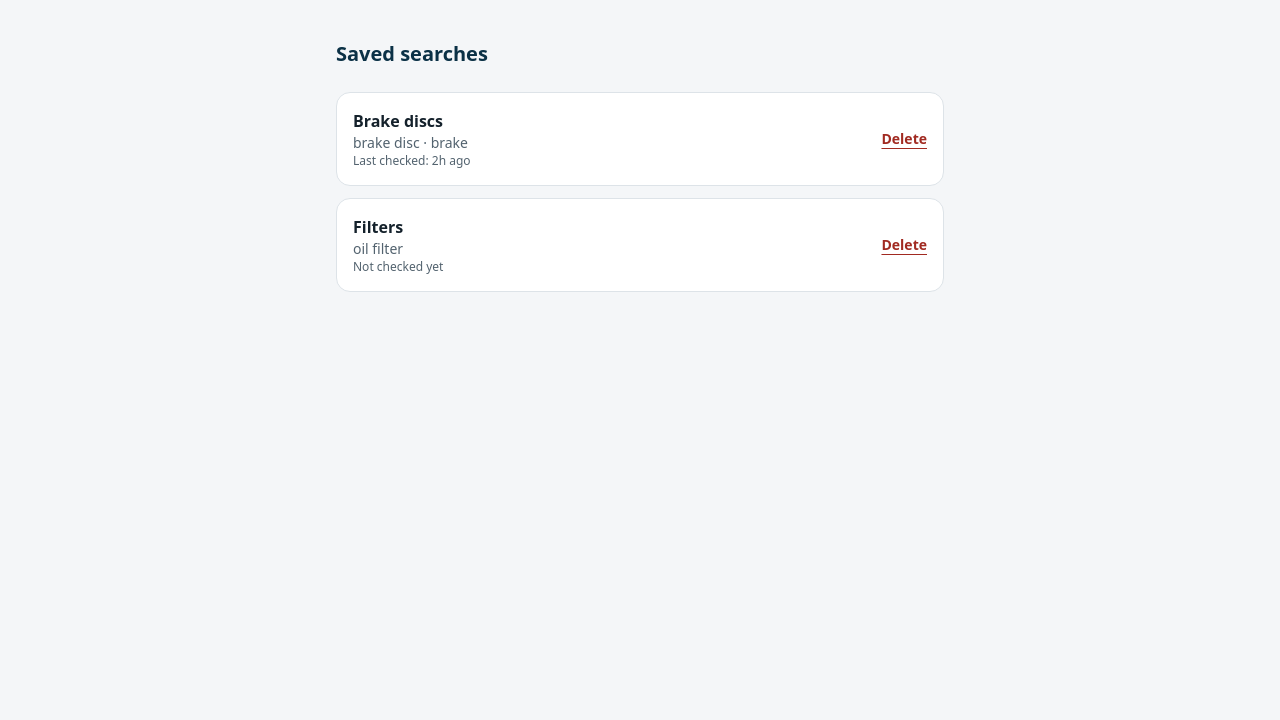
it: saved searches › CRITICAL: lists each search (it opens the search), when it was last checked or 'not checked yet'; deleting asks first and only the confirmation deletes
The image size is (1280, 720).
Check: the text "Last checked: 2h ago" is shown, box top-left (353, 152), bottom-right (471, 169)
Check: the text "Not checked yet" is shown, box top-left (353, 258), bottom-right (443, 275)
Click the button with aria-label "Delete: Brake discs": (904, 139) top-left (882, 129), bottom-right (927, 149)
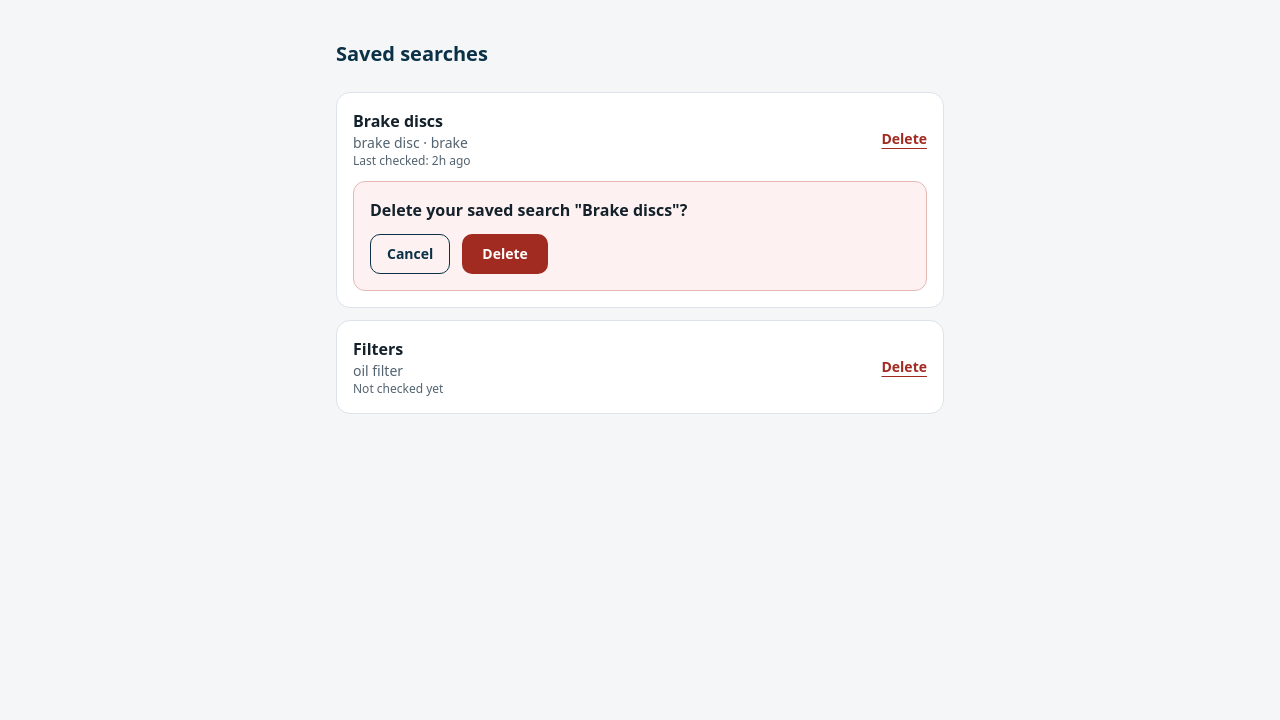
Click the button "Cancel": (410, 254) top-left (370, 234), bottom-right (450, 274)
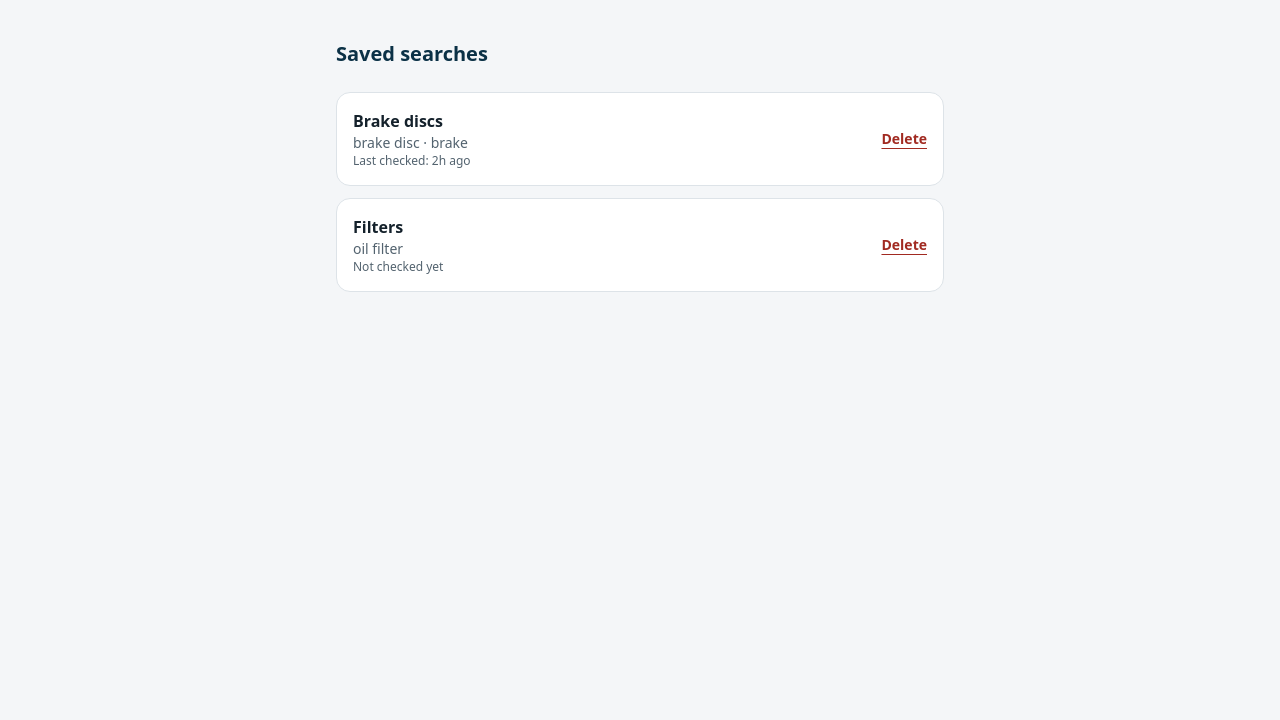
Click the button with aria-label "Delete: Brake discs": (904, 139) top-left (882, 129), bottom-right (927, 149)
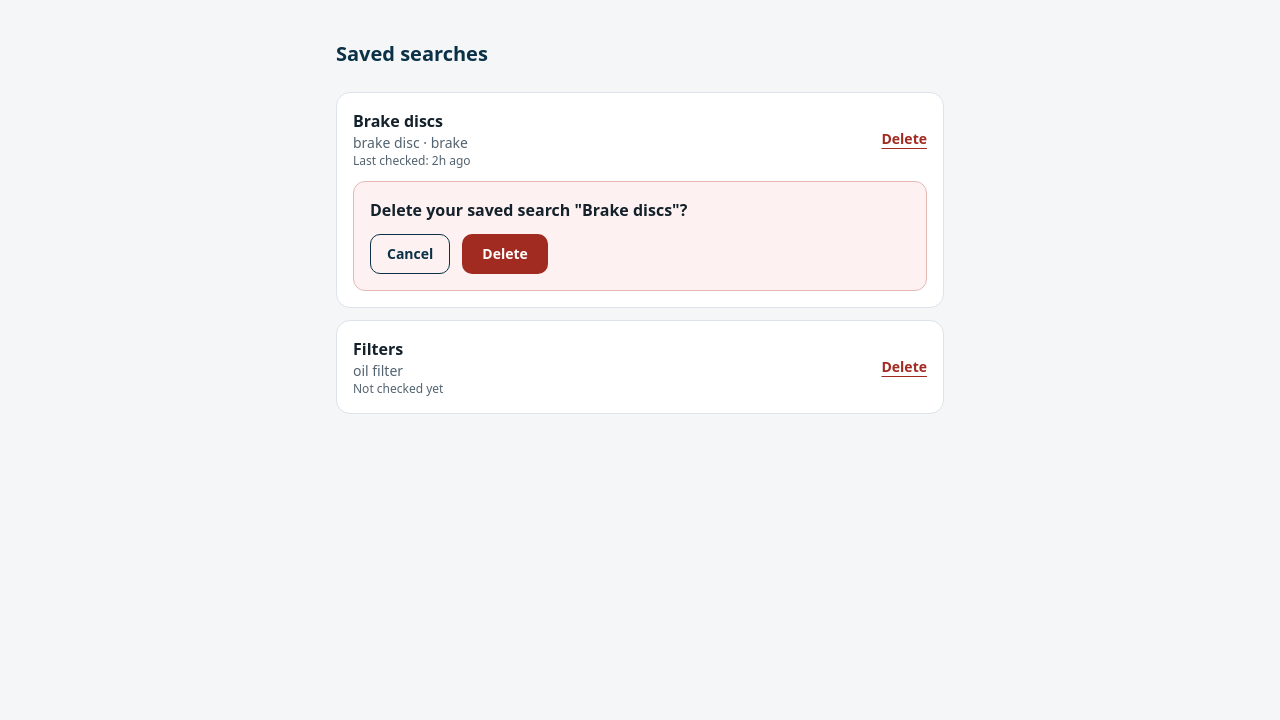
Click the button "Delete" below "Delete your saved search \"Brake discs\"?": (505, 254) top-left (462, 234), bottom-right (548, 274)
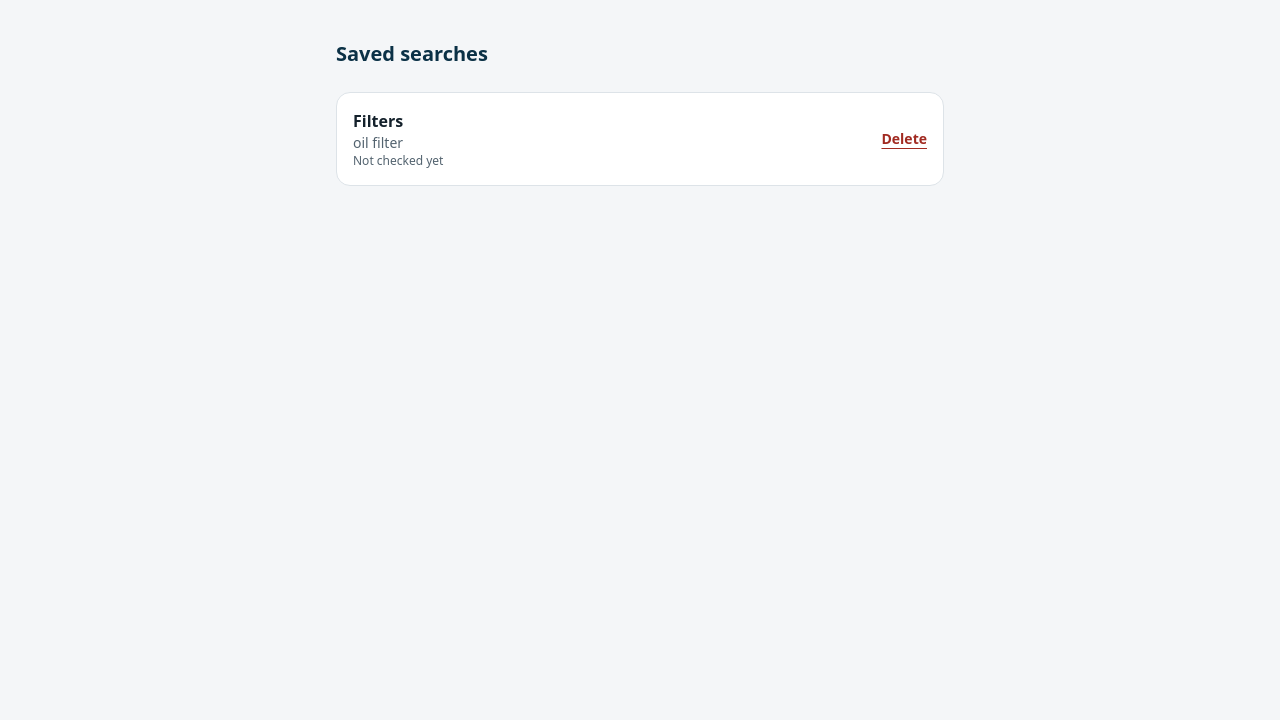
Check: the link "Brake discs" is gone
